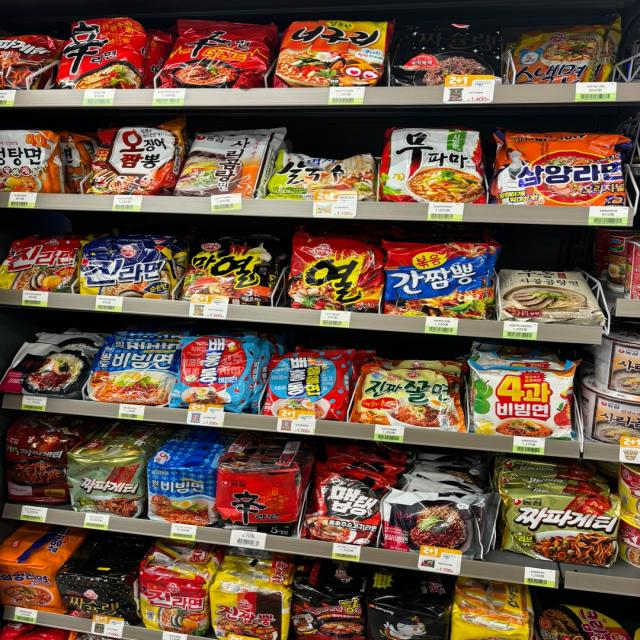product: (383, 240, 501, 320), (504, 490, 619, 570), (500, 133, 624, 207), (469, 359, 576, 440), (275, 16, 392, 84), (356, 360, 464, 432), (284, 240, 384, 314), (183, 241, 285, 312), (92, 118, 186, 194), (388, 128, 486, 200), (79, 244, 173, 309), (268, 348, 353, 419), (175, 334, 255, 401), (220, 472, 303, 532), (66, 456, 142, 518), (91, 345, 171, 403), (150, 464, 217, 524)
